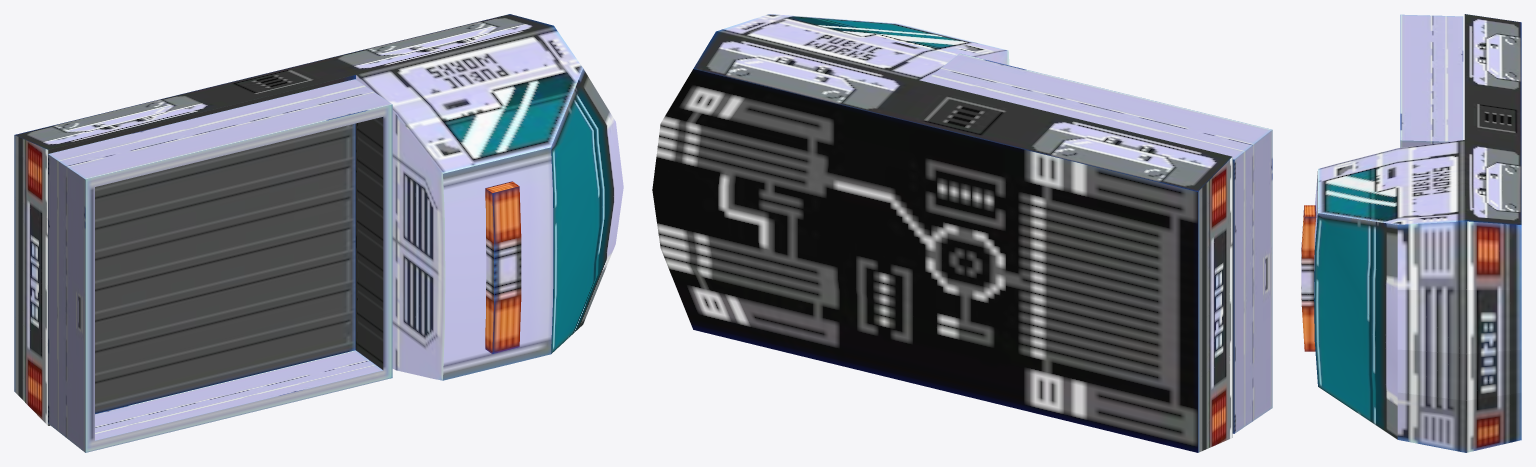
Rendered from publicWorks_truck.glb.
3 renders of one model, left to right at view 1: azimuth 30°, elevation 25°; view 2: azimuth 150°, elevation 25°; view 3: azimuth 270°, elevation 25°, orthographic. The views are drawn at different scales.
Visible parts, largest first — view 1: truck_bed, public_works; view 2: public_works, truck_bed; view 3: public_works, truck_bed.
Part boxes in pixels (x1,y1,x2,y2): truck_bed: [48, 79, 392, 452]; public_works: [14, 14, 623, 425]; public_works: [652, 14, 1232, 452]; truck_bed: [924, 53, 1272, 433]; public_works: [1301, 14, 1521, 452]; truck_bed: [1400, 14, 1463, 147].
Bounding box in the file's own units: 56.57 × 27.26 × 23.5.
Materials: 2 (2 with a texture image).
